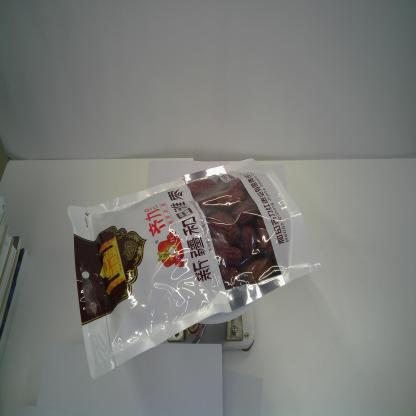Dried Food: (65, 155, 322, 378)
